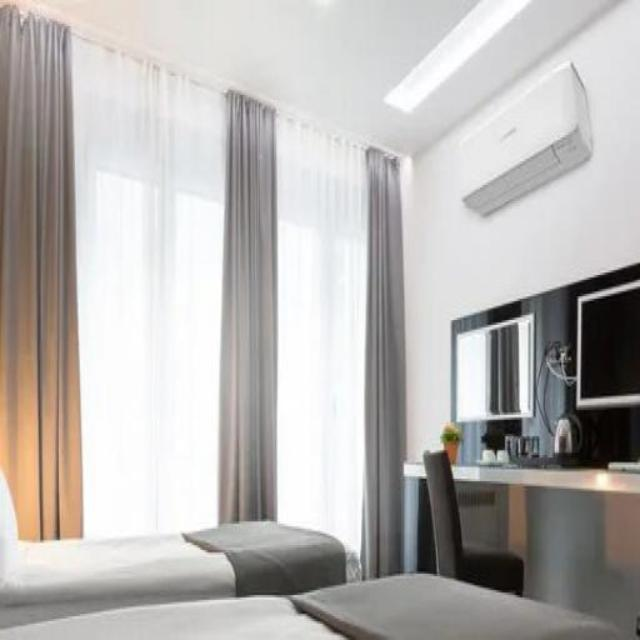Flat-Panel-Monitor: (577, 284, 639, 414)
